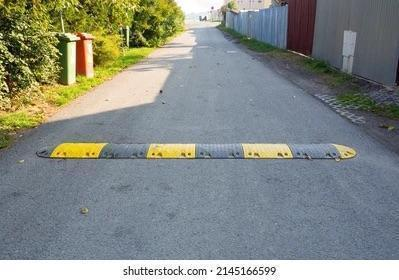speedbreaker: (29, 142, 358, 162)
